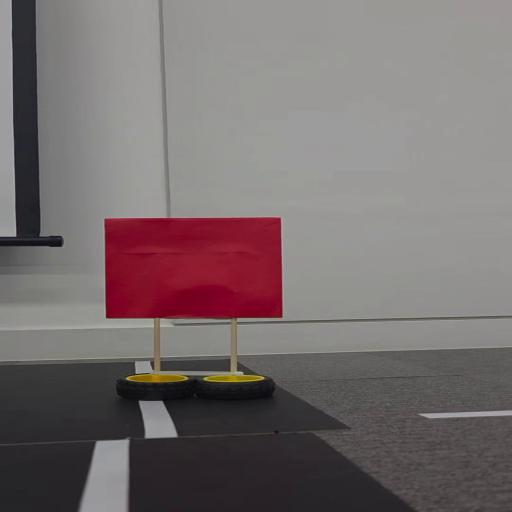Sign_A: (92, 214, 289, 404)
